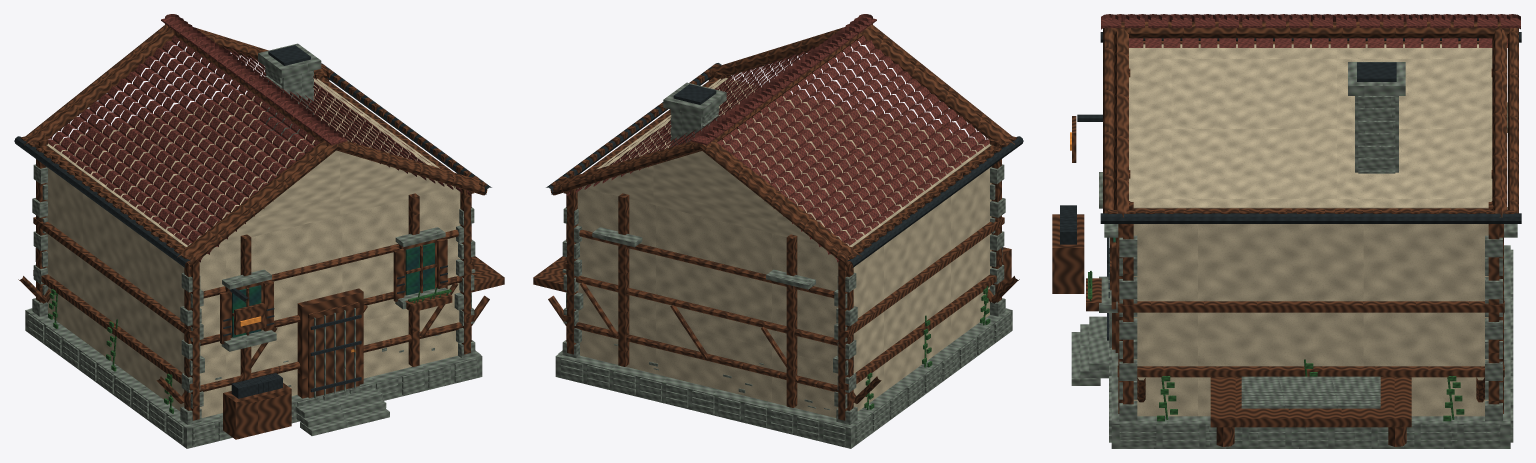
Rendered from windfall-harbor-workshop.glb.
3 renders of one model, left to right at view 1: azimuth 30°, elevation 25°; view 2: azimuth 150°, elevation 25°; view 3: azimuth 270°, elevation 25°, orthographic. The views are drawn at different scales.
Visible parts, largest first — view 1: architecture-plaster, architecture-timber, architecture-roof, architecture-stone, architecture-iron, architecture-glass, architecture-leaf; view 2: architecture-plaster, architecture-roof, architecture-timber, architecture-stone, architecture-iron, architecture-leaf; view 3: architecture-plaster, architecture-timber, architecture-stone, architecture-roof, architecture-iron, architecture-leaf.
Boxes of the visible parts, x1,y1,x2,y2 form: architecture-plaster: (46, 78, 460, 417); architecture-timber: (18, 24, 504, 439); architecture-roof: (48, 14, 471, 262); architecture-stone: (25, 43, 482, 448); architecture-iron: (14, 45, 491, 398); architecture-glass: (232, 243, 434, 337); architecture-leaf: (48, 287, 451, 413); architecture-plaster: (577, 78, 991, 417); architecture-roof: (566, 14, 989, 262); architecture-timber: (533, 24, 1019, 420); architecture-stone: (555, 82, 1012, 448); architecture-iron: (546, 63, 1023, 267); architecture-leaf: (864, 286, 990, 409); architecture-plaster: (1129, 44, 1492, 416); architecture-timber: (1052, 21, 1518, 446); architecture-stone: (1071, 62, 1517, 448); architecture-roof: (1101, 14, 1520, 47); architecture-iron: (1060, 32, 1521, 340); architecture-leaf: (1088, 271, 1464, 421).
Bounding box in the file's own units: 10.13 × 7.17 × 8.85.
Materials: 8 (8 with a texture image).
